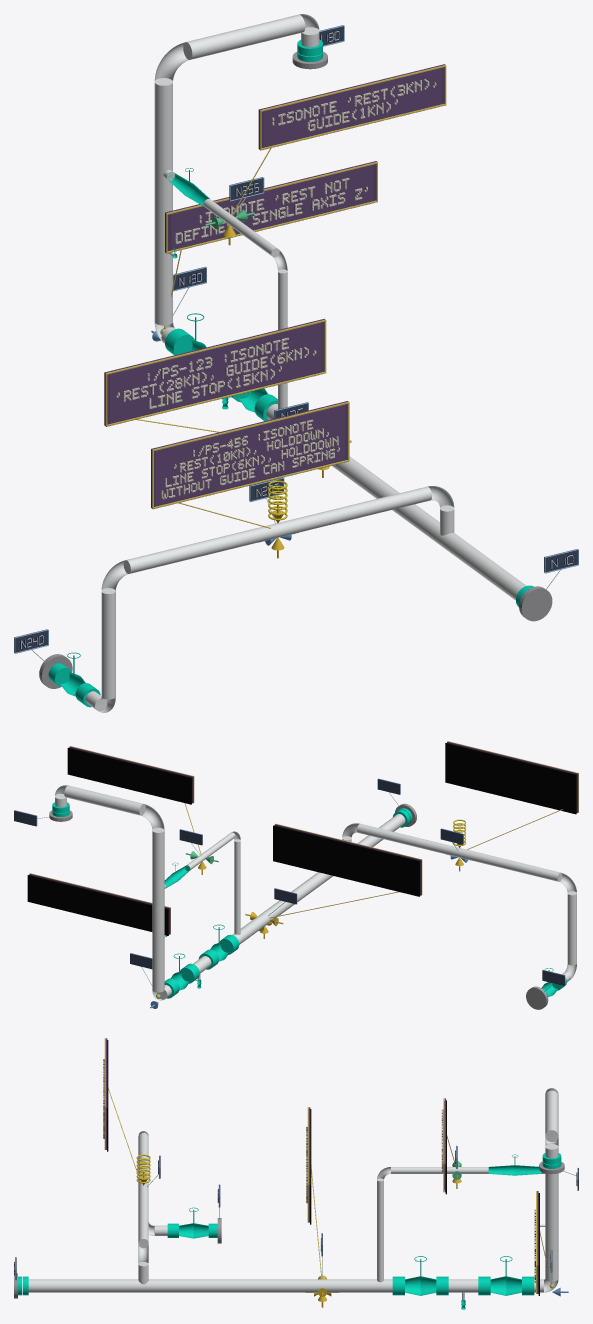
Rendered from BM_CII_component_metadata_fixed_engineering.glb.
3 renders of one model, top to bottom at view 1: azimuth 30°, elevation 25°; view 2: azimuth 150°, elevation 25°; view 3: azimuth 270°, elevation 25°, orthographic. The views are drawn at different scales.
Parts seen in each view (by area): view 1: isonote-node-35-readable-nameplate, isonote-node-205-readable-nameplate, isonote-node-130-readable-nameplate, isonote-node-255-readable-nameplate, PE_023_BEND_205_TO_210, PE_022_PIPE_200_TO_205, PE_018_BEND_160_TO_170, PE_003_PIPE_30_TO_35, PE_002_PIPE_20_TO_30, PE_017_BEND_150_TO_160, PE_024_BEND_210_TO_220, PE_015_PIPE_130_TO_140 (+2 smaller); view 2: isonote-node-35-readable-nameplate, isonote-node-205-readable-nameplate, isonote-node-130-readable-nameplate, isonote-node-255-readable-nameplate, PE_023_BEND_205_TO_210, PE_022_PIPE_200_TO_205, PE_018_BEND_160_TO_170, PE_017_BEND_150_TO_160, PE_003_PIPE_30_TO_35, PE_024_BEND_210_TO_220, PE_016_PIPE_140_TO_150, PE_029_BEND_70_TO_250 (+5 smaller); view 3: PE_003_PIPE_30_TO_35, PE_002_PIPE_20_TO_30, isonote-node-35-readable-nameplate, PE_004_PIPE_35_TO_70, isonote-node-205-readable-nameplate, PE_016_PIPE_140_TO_150, PE_029_BEND_70_TO_250, PE_015_PIPE_130_TO_140, PE_018_BEND_160_TO_170, PE_022_PIPE_200_TO_205, isonote-node-130-readable-nameplate, isonote-node-255-readable-nameplate (+6 smaller).
Part boxes in pixels (bbox=[...]): isonote-node-35-readable-nameplate: bbox=[104, 318, 326, 432]; isonote-node-205-readable-nameplate: bbox=[151, 401, 349, 528]; isonote-node-130-readable-nameplate: bbox=[161, 161, 377, 333]; isonote-node-255-readable-nameplate: bbox=[232, 64, 446, 215]; PE_023_BEND_205_TO_210: bbox=[123, 523, 281, 573]; PE_022_PIPE_200_TO_205: bbox=[277, 486, 431, 536]; PE_018_BEND_160_TO_170: bbox=[183, 14, 305, 59]; PE_003_PIPE_30_TO_35: bbox=[332, 456, 440, 545]; PE_002_PIPE_20_TO_30: bbox=[439, 533, 526, 600]; PE_017_BEND_150_TO_160: bbox=[154, 78, 172, 174]; PE_024_BEND_210_TO_220: bbox=[101, 588, 115, 699]; PE_015_PIPE_130_TO_140: bbox=[154, 249, 172, 325]; isonote-node-35-readable-nameplate: bbox=[269, 823, 422, 918]; isonote-node-205-readable-nameplate: bbox=[445, 741, 578, 849]; isonote-node-130-readable-nameplate: bbox=[27, 873, 170, 998]; isonote-node-255-readable-nameplate: bbox=[67, 746, 201, 854]; PE_023_BEND_205_TO_210: bbox=[457, 848, 562, 881]; PE_022_PIPE_200_TO_205: bbox=[357, 823, 459, 857]; PE_018_BEND_160_TO_170: bbox=[64, 785, 145, 815]; PE_017_BEND_150_TO_160: bbox=[152, 827, 164, 892]; PE_003_PIPE_30_TO_35: bbox=[261, 872, 332, 922]; PE_024_BEND_210_TO_220: bbox=[567, 891, 576, 965]; PE_016_PIPE_140_TO_150: bbox=[152, 890, 164, 943]; PE_029_BEND_70_TO_250: bbox=[234, 840, 240, 934]; PE_003_PIPE_30_TO_35: bbox=[143, 1279, 322, 1292]; PE_002_PIPE_20_TO_30: bbox=[28, 1279, 143, 1292]; isonote-node-35-readable-nameplate: bbox=[306, 1107, 322, 1279]; PE_004_PIPE_35_TO_70: bbox=[322, 1279, 380, 1292]; isonote-node-205-readable-nameplate: bbox=[103, 1038, 140, 1181]; PE_016_PIPE_140_TO_150: bbox=[545, 1173, 558, 1228]; PE_029_BEND_70_TO_250: bbox=[377, 1178, 383, 1282]; PE_015_PIPE_130_TO_140: bbox=[545, 1226, 558, 1281]; PE_018_BEND_160_TO_170: bbox=[545, 1090, 558, 1142]; PE_022_PIPE_200_TO_205: bbox=[138, 1186, 148, 1248]; isonote-node-130-readable-nameplate: bbox=[534, 1191, 553, 1295]; isonote-node-255-readable-nameplate: bbox=[441, 1098, 455, 1194].
Size of the model in its own units: 4.23 by 2.66 by 4.87.
